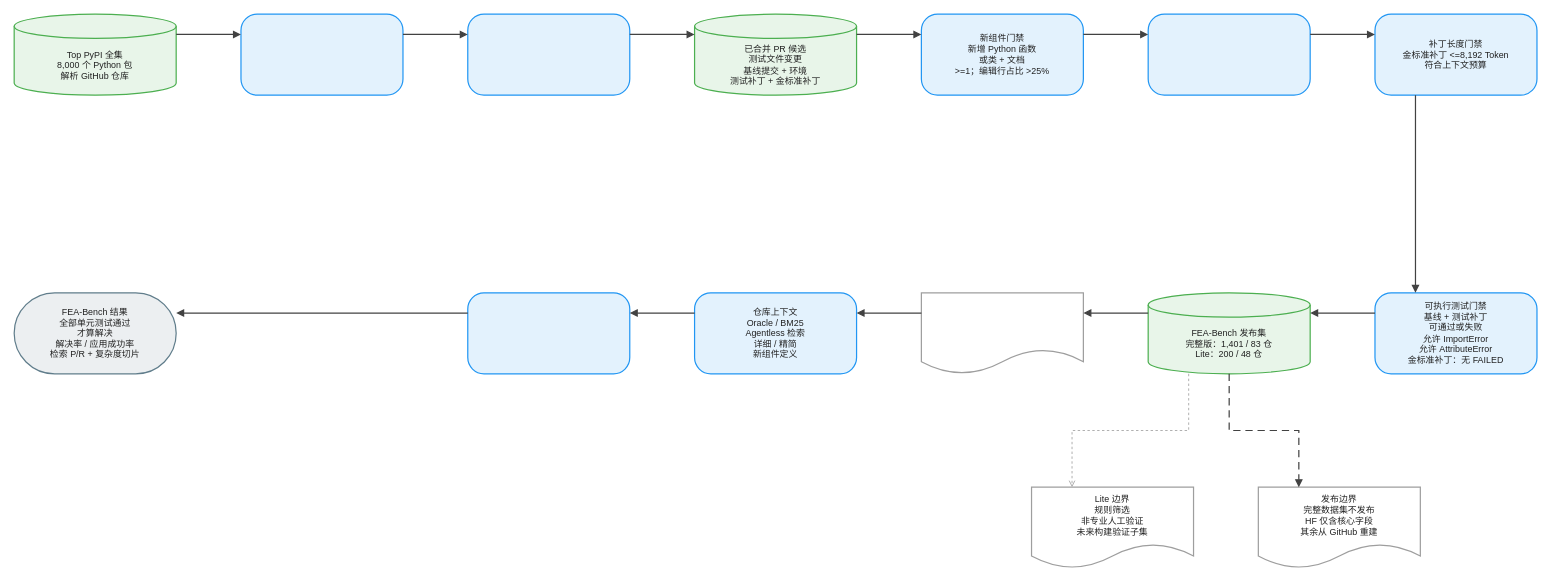
This 1552x583 diagram has some shape labels left out. The centre of each missing label's shape, as x and y in pixels:
"仓库过滤 要求许可证 PR >1,000 个 约 600 个仓库" belongs at point 321,54.
"单次生成 应用候选补丁 运行隐藏单元测试" belongs at point 548,333.
"快速安装 / 测试门禁 每仓前 20 个测试变更 PR 18 个 SWE-bench + 101 个其他仓 = 119 个仓库" belongs at point 548,54.
"意图门禁 GPT-4o 分类 PR 仅保留主要意图 = 新增功能" belongs at point 1228,54.
"模型可见合同 功能请求 + 新组件定义 隐藏金标准补丁 + 测试补丁" belongs at point 1002,333.
